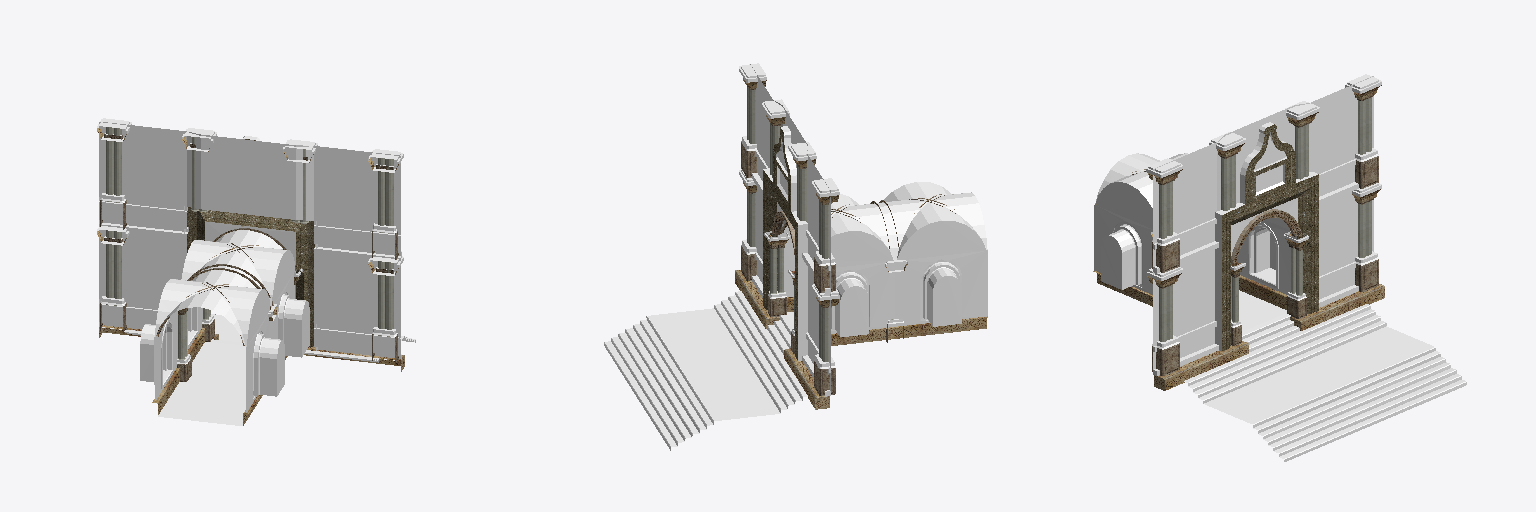
The picture shows the model from 3 angles: view 1: azimuth 30°, elevation 25°; view 2: azimuth 150°, elevation 25°; view 3: azimuth 270°, elevation 25°; orthographic projection.
Parts seen in each view (by area): view 1: mesh9, mesh0, mesh2, mesh8, mesh10, mesh4, mesh5, mesh1; view 2: mesh0, mesh6, mesh7, mesh9, mesh5, mesh8, mesh4, mesh10, mesh1; view 3: mesh9, mesh6, mesh0, mesh5, mesh7, mesh10, mesh8, mesh4, mesh1, mesh2.
Boxes of the visible parts, <box> form: mesh9: <box>99,122,401,360</box>; mesh0: <box>140,230,309,412</box>; mesh2: <box>158,342,245,425</box>; mesh8: <box>106,127,393,336</box>; mesh10: <box>187,139,314,346</box>; mesh4: <box>97,118,403,336</box>; mesh5: <box>97,128,404,371</box>; mesh1: <box>152,243,287,425</box>; mesh0: <box>778,182,987,336</box>; mesh6: <box>604,291,807,450</box>; mesh7: <box>648,308,780,420</box>; mesh9: <box>750,64,830,396</box>; mesh5: <box>735,78,838,409</box>; mesh8: <box>747,87,828,361</box>; mesh4: <box>739,63,839,368</box>; mesh10: <box>763,127,797,359</box>; mesh1: <box>780,194,987,345</box>; mesh9: <box>1153,76,1373,375</box>; mesh6: <box>1184,304,1466,461</box>; mesh0: <box>1094,153,1296,294</box>; mesh5: <box>1147,85,1384,390</box>; mesh7: <box>1204,326,1433,423</box>; mesh10: <box>1222,124,1318,350</box>; mesh8: <box>1159,97,1371,341</box>; mesh4: <box>1146,74,1381,349</box>; mesh1: <box>1093,169,1286,309</box>; mesh2: <box>1239,290,1286,331</box>.
Size of the model in its own units: 19.55 by 14.7 by 19.55.
11 materials, 3 textured.